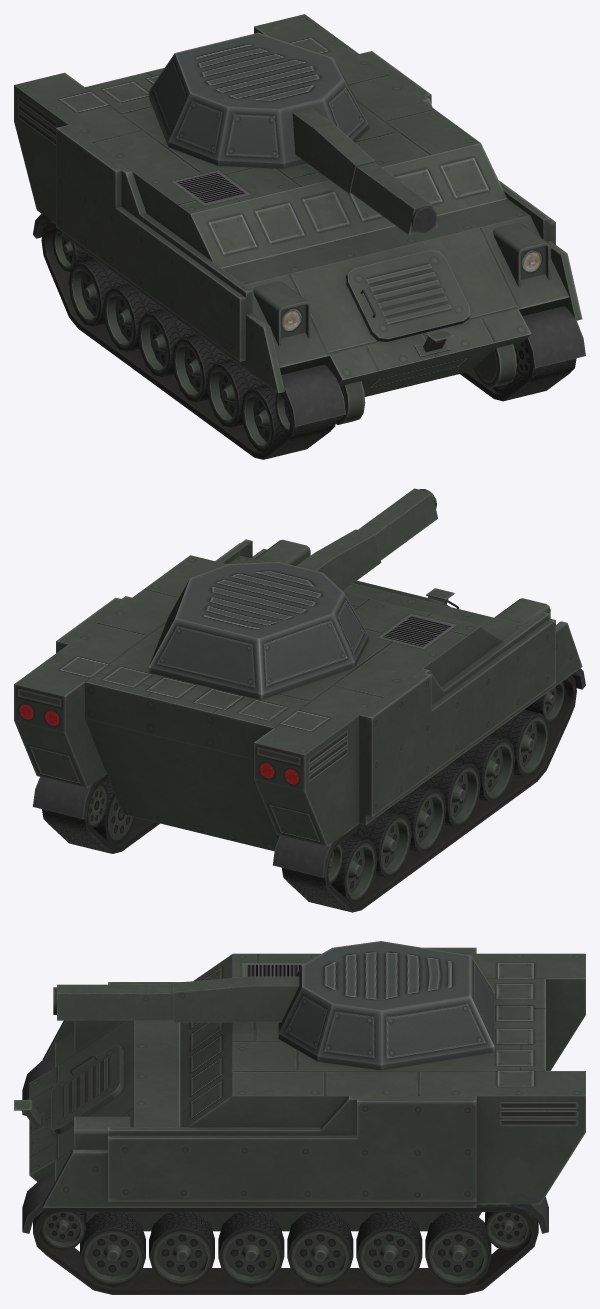
File: Mortar Team.fbx
3 views of the same model, one above another, from view 1: azimuth 30°, elevation 25°; view 2: azimuth 150°, elevation 25°; view 3: azimuth 270°, elevation 25° (orthographic).
Visible parts, largest first — view 1: mortar; view 2: mortar; view 3: mortar.
Boxes of the visible parts, x1,y1,x2,y2 form: mortar: (14,14,585,459); mortar: (14,488,585,912); mortar: (14,941,585,1294).
Bounding box in the file's own units: 105 × 78.97 × 164.
1 material, 1 textured.
